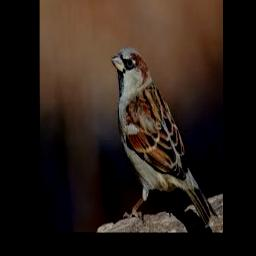Sparrow: (112, 47, 211, 229)
